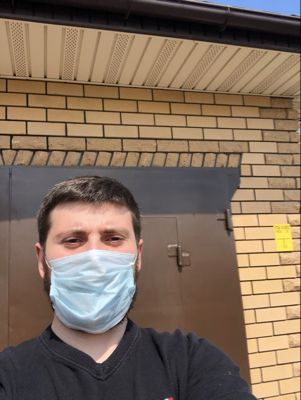with-mask: (31, 188, 151, 334)
